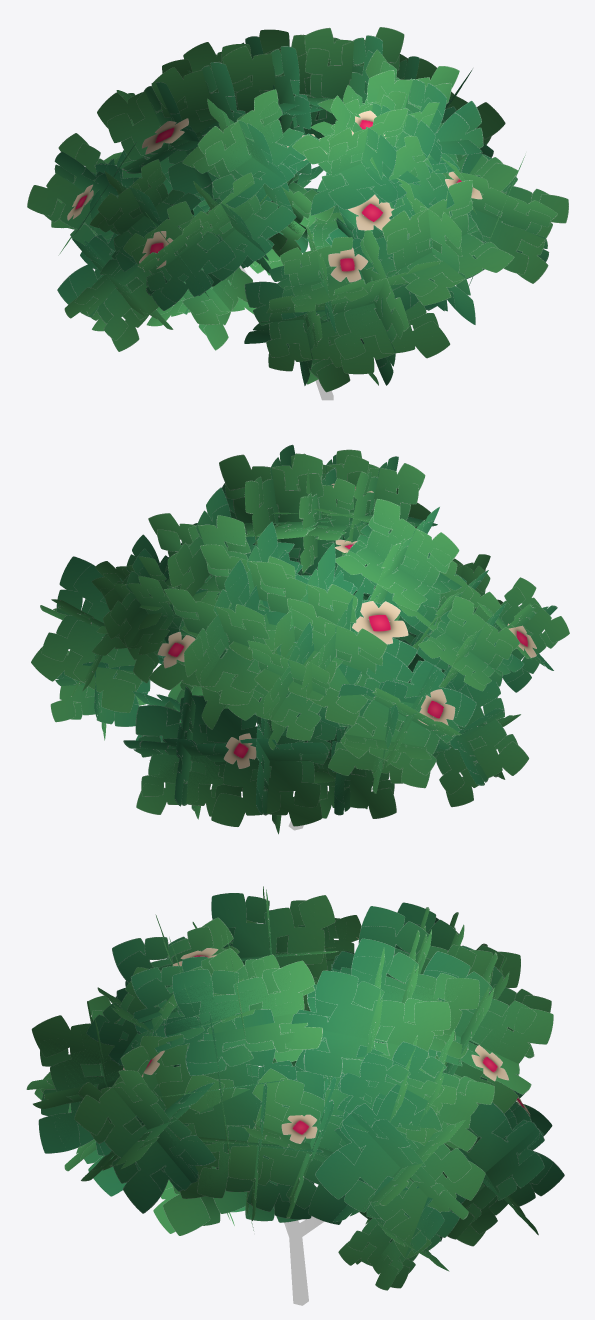
The model's file is TSP_Bush_01A.fbx.
3 renders of one model, top to bottom at view 1: azimuth 30°, elevation 25°; view 2: azimuth 150°, elevation 25°; view 3: azimuth 270°, elevation 25°, orthographic. The views are drawn at different scales.
Visible parts, largest first — view 1: TSP_Bush_01A; view 2: TSP_Bush_01A; view 3: TSP_Bush_01A.
Part boxes in pixels (left/top/right/bottom): TSP_Bush_01A: left=27, top=27, right=568, bottom=400; TSP_Bush_01A: left=31, top=444, right=569, bottom=834; TSP_Bush_01A: left=26, top=886, right=564, bottom=1305.
Size of the model in its own units: 2.53 by 1.74 by 2.3.
